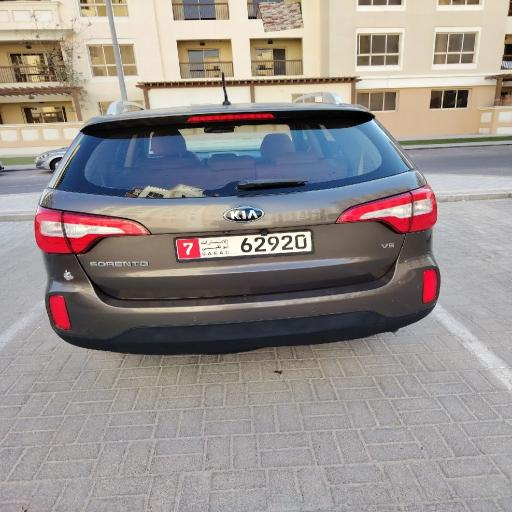license-plates: (176, 231, 312, 260)
